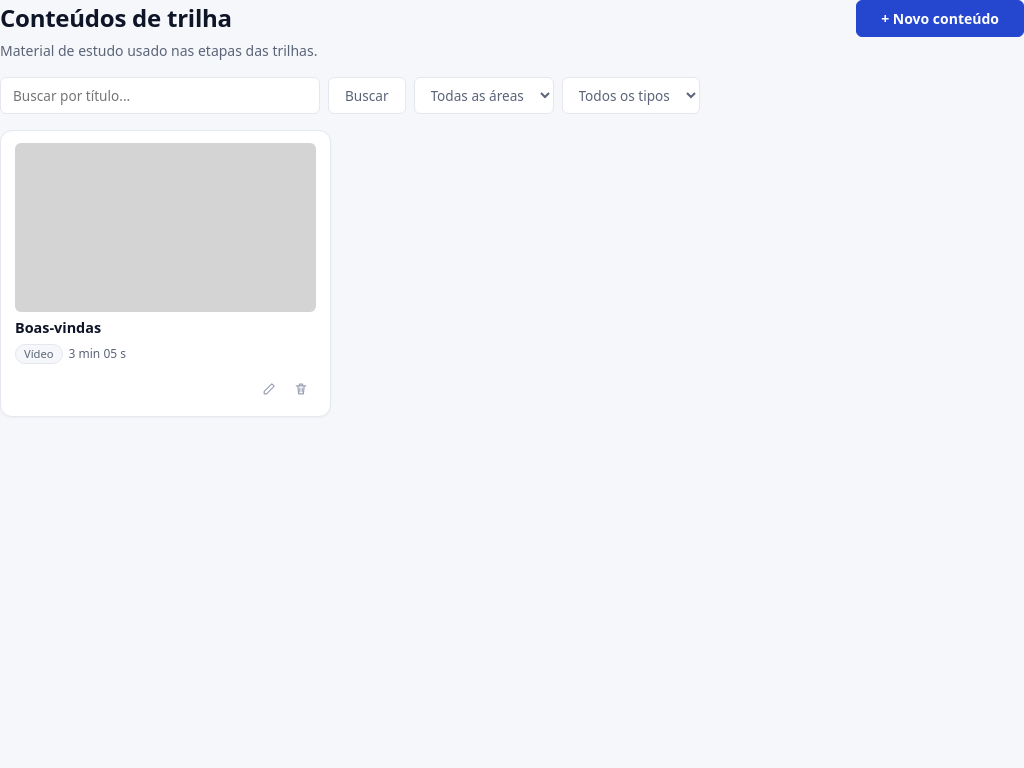
Test: ConteudosPage › a lixeira pede confirmação, exclui e a lista recarrega
The image size is (1024, 768).
Click the button named "Excluir Boas-vindas".
click(301, 389)  # box [286, 374, 316, 404]
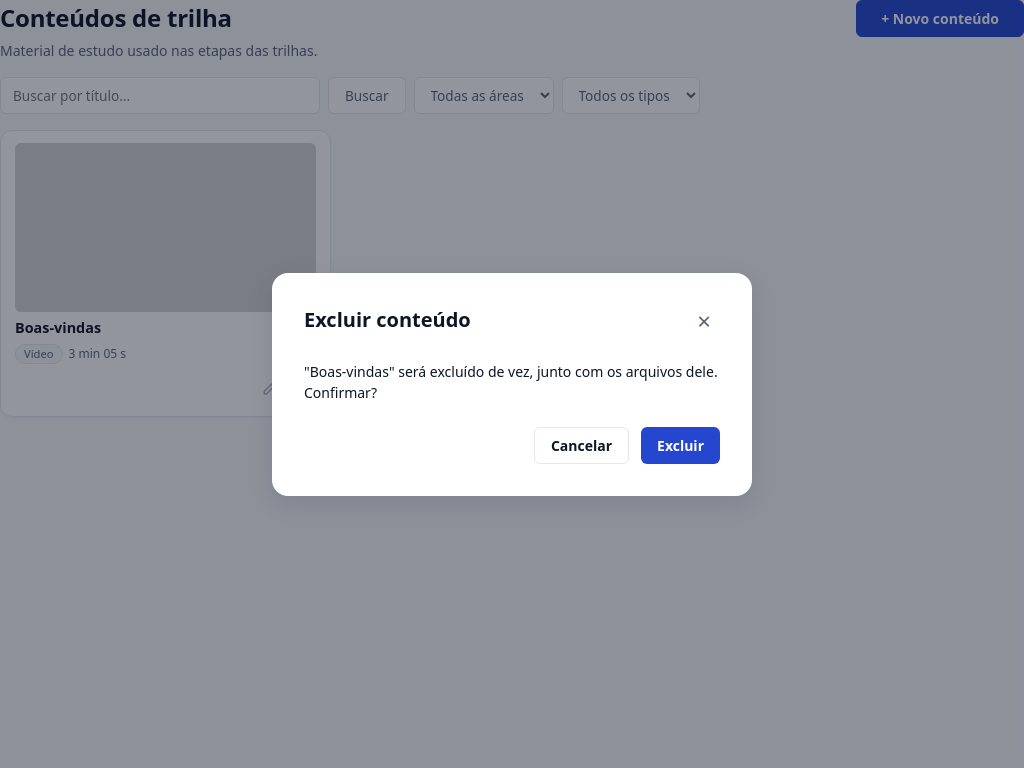
Click the button "Excluir".
click(680, 445)  # box [641, 426, 720, 464]
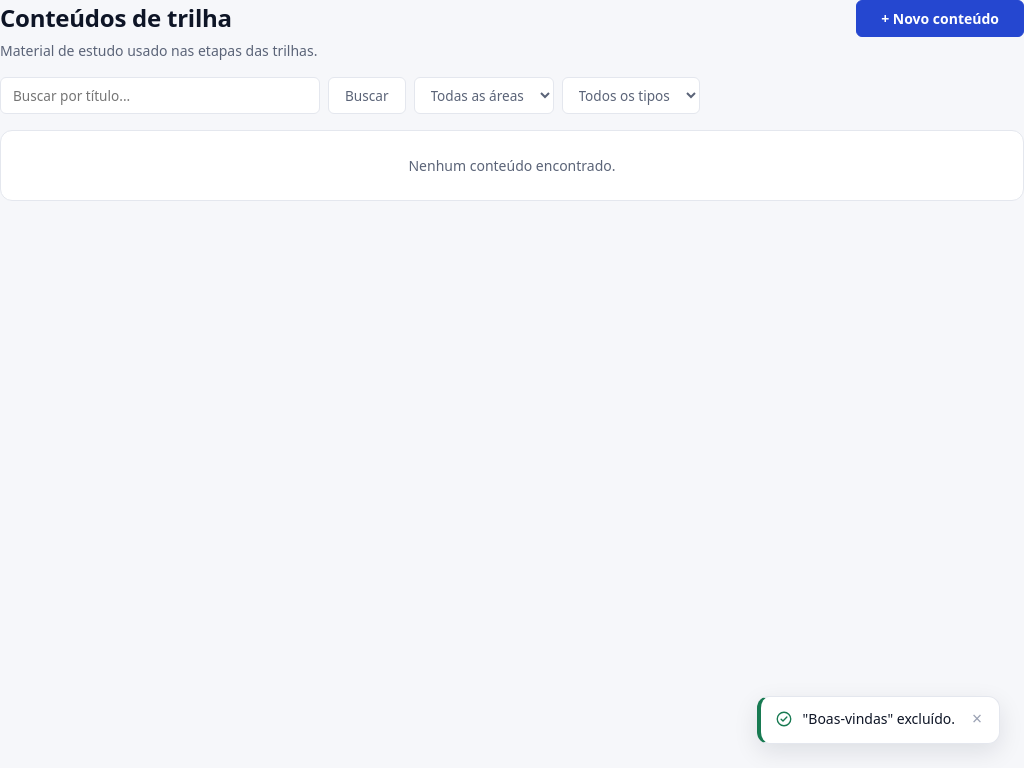
Now the text "\"Boas-vindas\" excluído." is shown, box [803, 709, 955, 729]
Now the text "Nenhum conteúdo encontrado." is shown, box [0, 130, 1023, 201]
